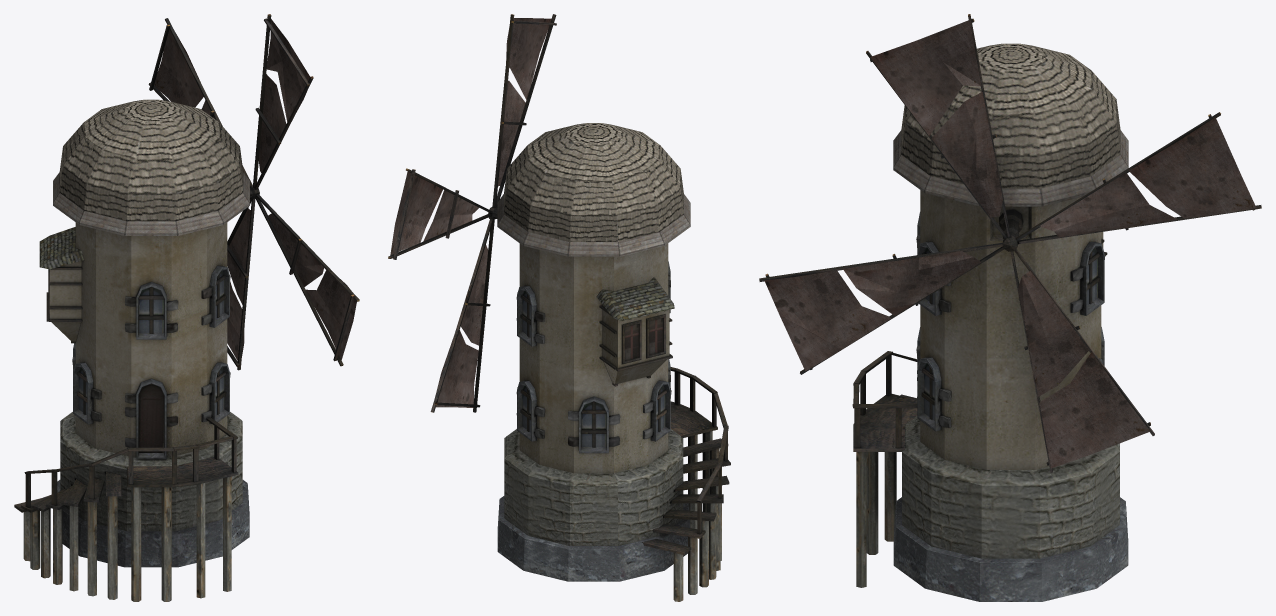
The model's file is windmill.glb.
3 renders of one model, left to right at view 1: azimuth 30°, elevation 25°; view 2: azimuth 150°, elevation 25°; view 3: azimuth 270°, elevation 25°, orthographic. The views are drawn at different scales.
Parts seen in each view (by area): view 1: mill; view 2: mill; view 3: mill.
Part boxes in pixels (x1,y1,x2,y2): mill: [14, 14, 359, 601]; mill: [388, 14, 730, 601]; mill: [759, 14, 1261, 601].
Bounding box in the file's own units: 55.86 × 121 × 88.6.
2 materials, 2 textured.
